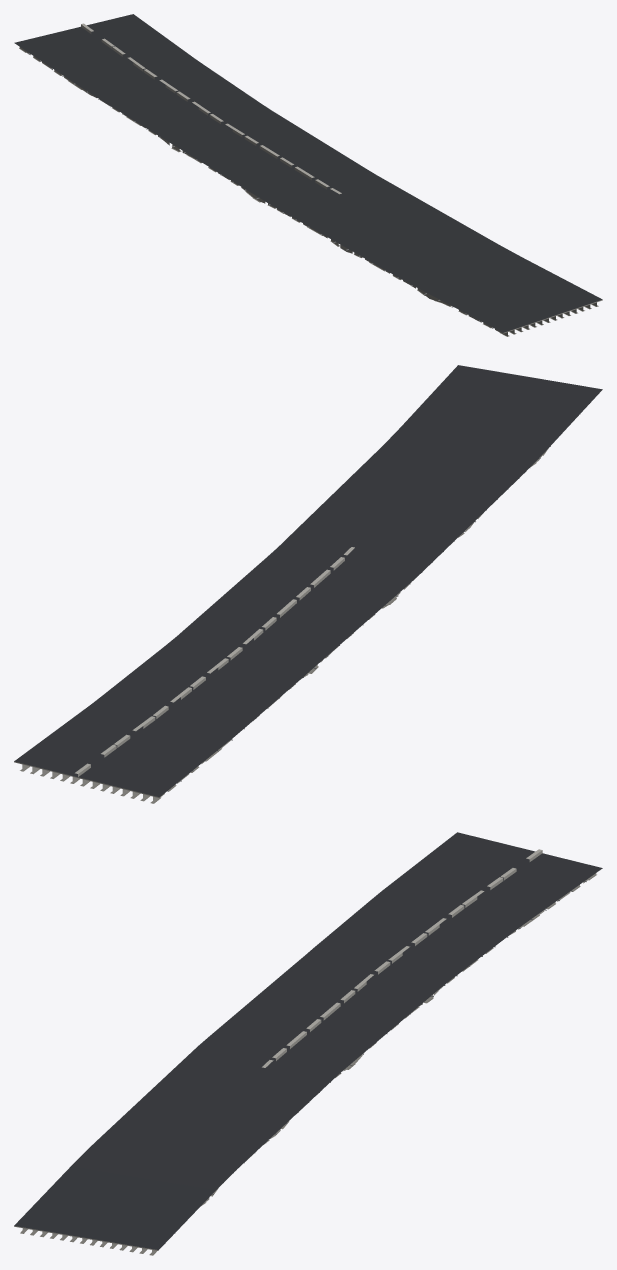
Rendered from br_r6_quesnell_1_lod1.gltf.
The picture shows the model from 3 angles, top to bottom: view 1: azimuth 30°, elevation 25°; view 2: azimuth 150°, elevation 25°; view 3: azimuth 330°, elevation 25°; orthographic projection. The views are drawn at different scales.
Parts seen in each view (by area): view 1: br_r6_quesnell_1_lod1; view 2: br_r6_quesnell_1_lod1; view 3: br_r6_quesnell_1_lod1.
Boxes of the visible parts, bbox=[...] form: br_r6_quesnell_1_lod1: bbox=[14, 14, 602, 336]; br_r6_quesnell_1_lod1: bbox=[14, 365, 602, 803]; br_r6_quesnell_1_lod1: bbox=[14, 832, 602, 1255].
Size of the model in its own units: 74.57 by 5.19 by 318.
